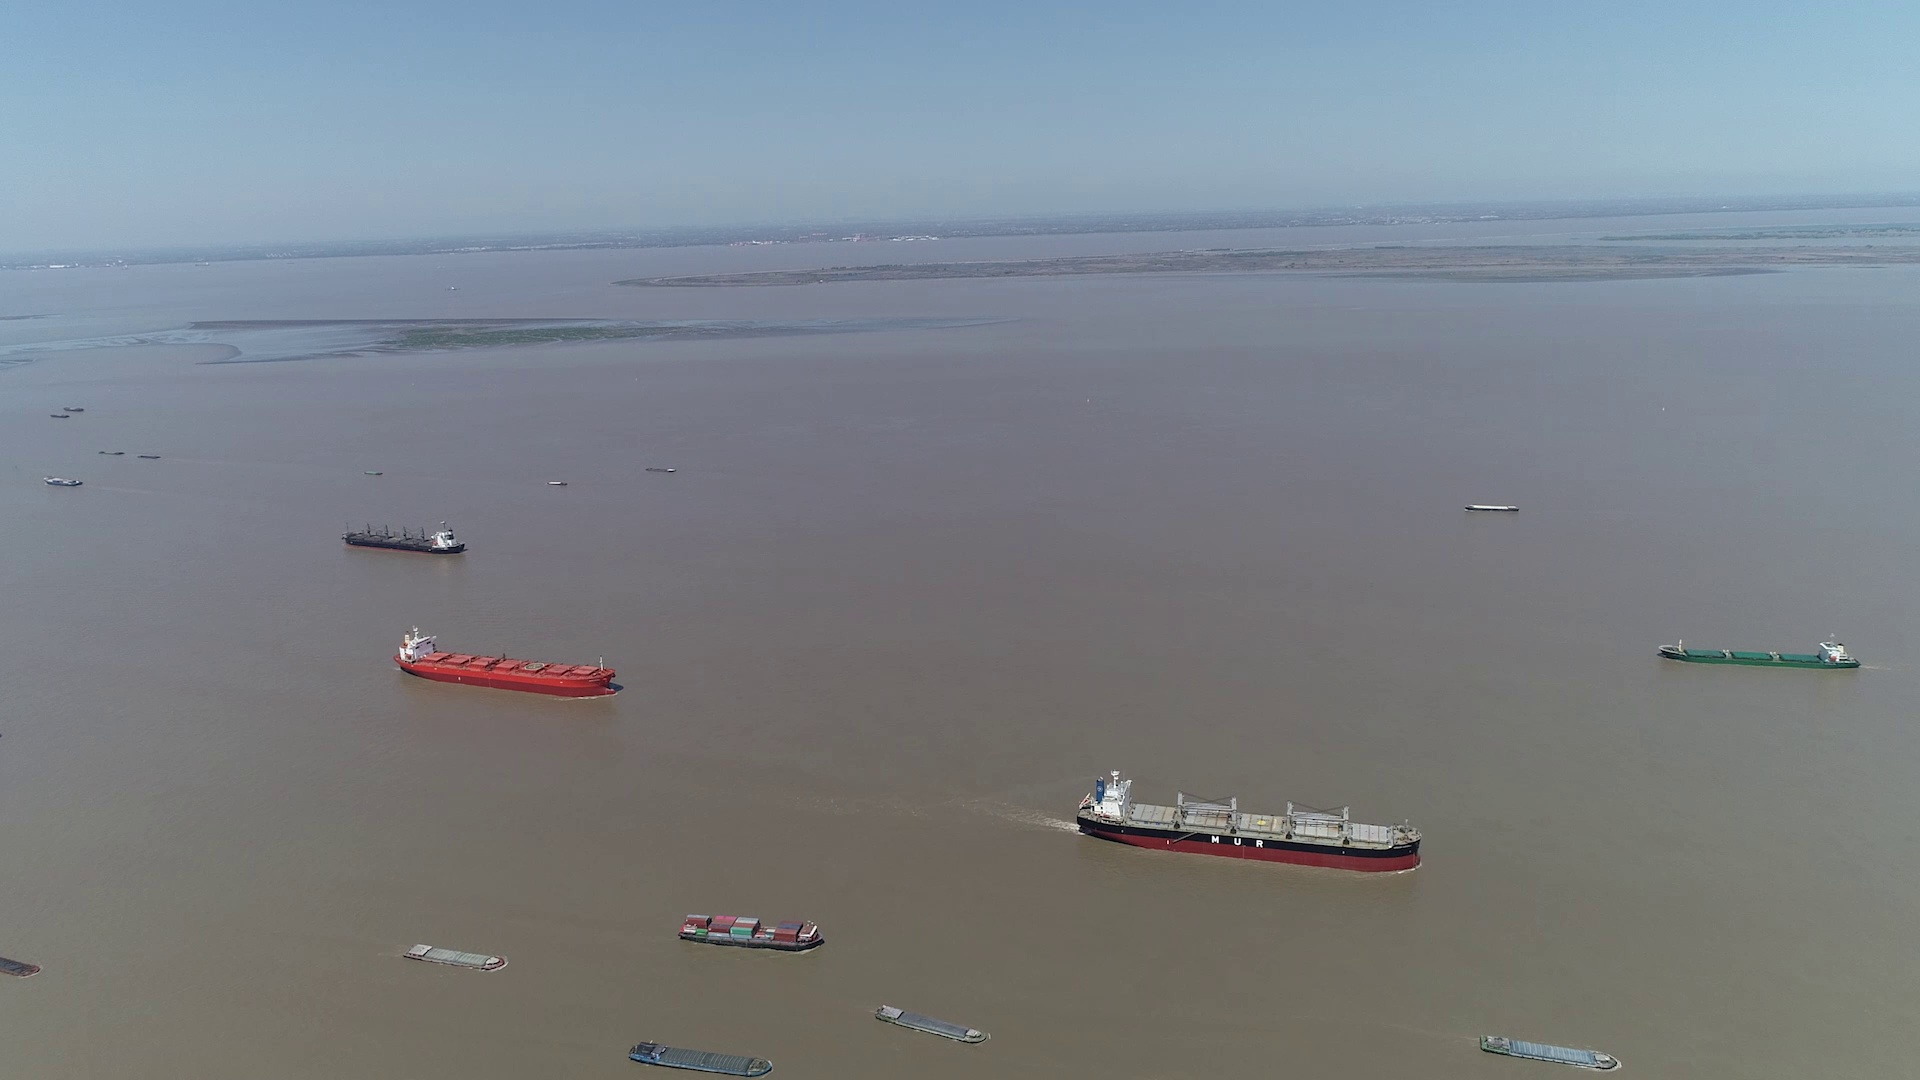ship: (1076, 771, 1424, 872), (396, 629, 615, 698), (1659, 638, 1859, 670), (678, 914, 823, 953), (1478, 1033, 1621, 1072), (629, 1040, 774, 1077), (876, 1004, 988, 1047), (342, 521, 465, 554), (404, 942, 508, 971), (0, 952, 36, 978), (1464, 502, 1518, 513), (44, 473, 83, 487), (644, 465, 678, 472)
